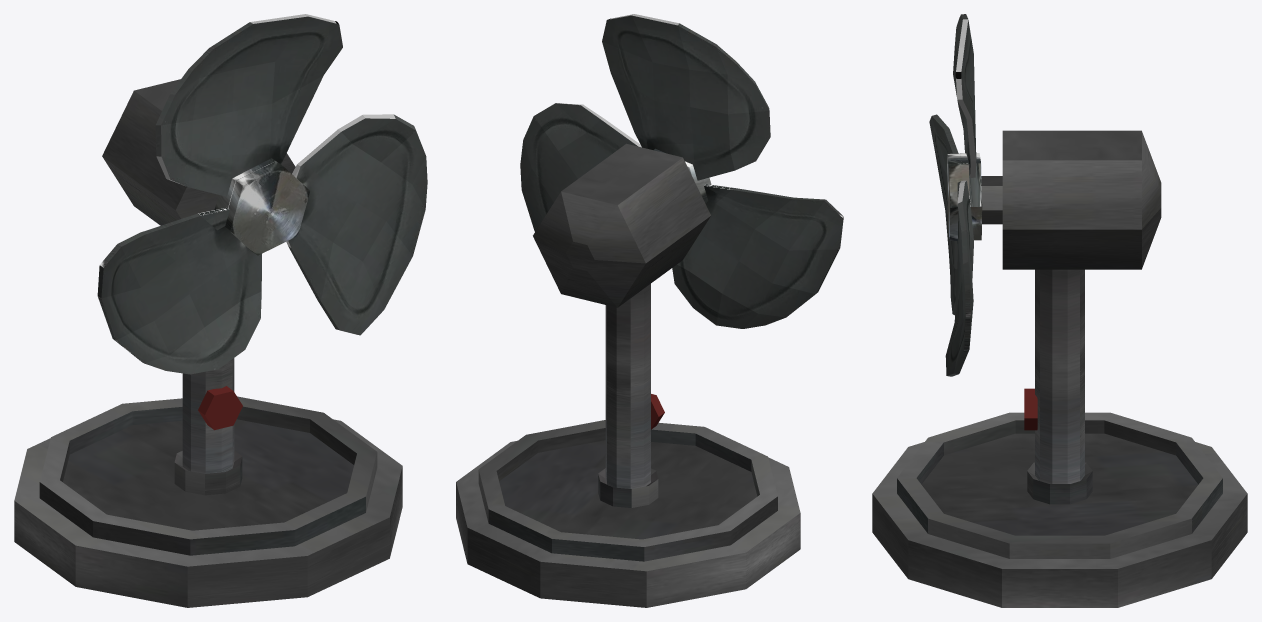
The model's file is fan.glb.
3 renders of one model, left to right at view 1: azimuth 30°, elevation 25°; view 2: azimuth 150°, elevation 25°; view 3: azimuth 270°, elevation 25°, orthographic. The views are drawn at different scales.
Parts seen in each view (by area): view 1: base, FANBLADES; view 2: base, FANBLADES; view 3: base, FANBLADES.
Part boxes in pixels (bbox=[...]): base: bbox=[14, 79, 402, 607]; FANBLADES: bbox=[97, 14, 427, 374]; base: bbox=[456, 143, 800, 607]; FANBLADES: bbox=[520, 14, 843, 328]; base: bbox=[872, 130, 1247, 607]; FANBLADES: bbox=[929, 14, 982, 376].
Bounding box in the file's own units: 2.39 × 3.58 × 2.39.
Materials: 3 (2 with a texture image).
